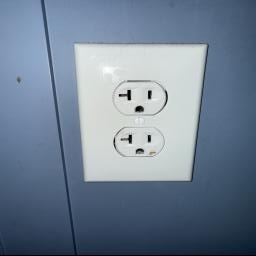outlet: (72, 42, 202, 186)
